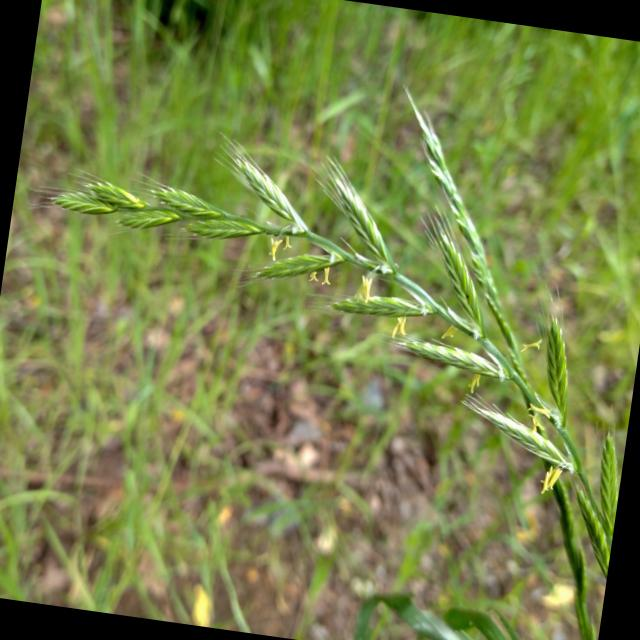Lolium: (0, 33, 640, 566)
